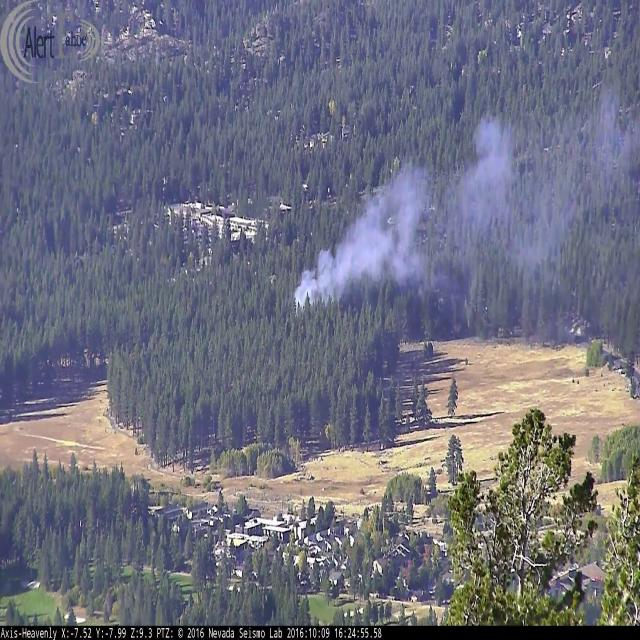smoke: (285, 105, 635, 316)
